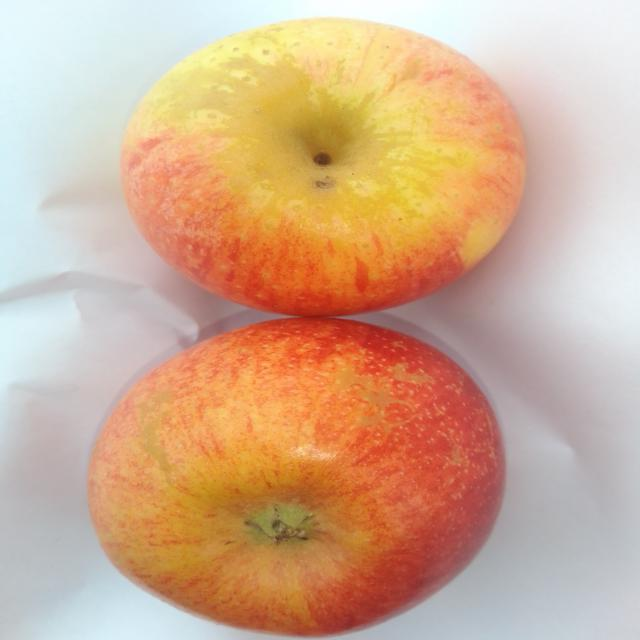Fresh Apple: (83, 316, 508, 640), (115, 10, 525, 317)
